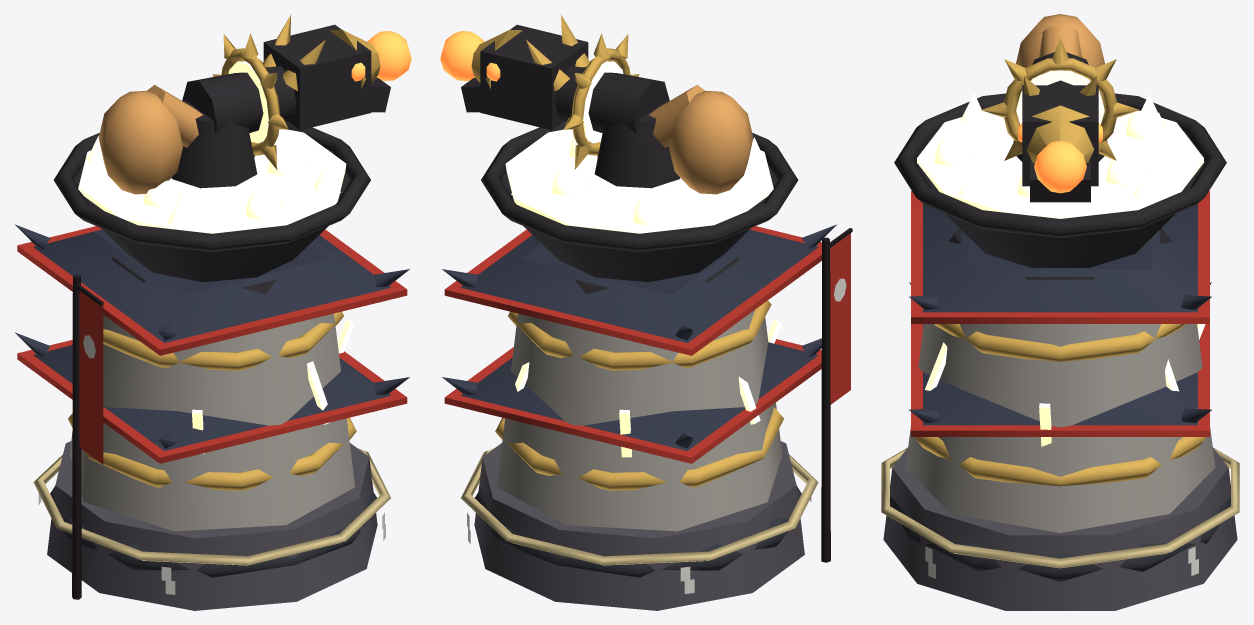
The model's file is tower_flame_sunfire.glb.
3 renders of one model, left to right at view 1: azimuth 30°, elevation 25°; view 2: azimuth 150°, elevation 25°; view 3: azimuth 270°, elevation 25°, orthographic. The views are drawn at different scales.
Visible parts, largest first — view 1: body, base, deco_eave_0_roof, coals, brazier_lip, dragon_head, gas_tank, deco_eave_1_roof, deco_eave_0_rim, deco_eave_1_rim, brazier_bowl, deco_shimenawa_rope (+18 smaller); view 2: body, base, deco_eave_0_roof, coals, brazier_lip, dragon_head, deco_eave_1_roof, gas_tank, deco_eave_0_rim, deco_eave_1_rim, brazier_bowl, deco_shimenawa_rope (+17 smaller); view 3: body, base, deco_eave_0_roof, coals, brazier_lip, deco_eave_1_roof, deco_eave_0_rim, brazier_bowl, deco_eave_1_rim, deco_shimenawa_rope, body_band_0.15, body_band_0.3 (+14 smaller).
Boxes of the visible parts, left/top/right/bottom form: body: left=69, top=313, right=354, bottom=531; base: left=47, top=441, right=377, bottom=610; deco_eave_0_roof: left=33, top=229, right=390, bottom=342; coals: left=78, top=129, right=346, bottom=233; brazier_lip: left=53, top=121, right=370, bottom=251; dragon_head: left=263, top=24, right=371, bottom=130; gas_tank: left=98, top=91, right=182, bottom=194; deco_eave_1_roof: left=33, top=345, right=390, bottom=450; deco_eave_0_rim: left=17, top=226, right=407, bottom=355; deco_eave_1_rim: left=17, top=340, right=407, bottom=463; brazier_bowl: left=74, top=148, right=350, bottom=282; deco_shimenawa_rope: left=33, top=448, right=390, bottom=565; body: left=497, top=310, right=782, bottom=531; base: left=474, top=441, right=804, bottom=610; deco_eave_0_roof: left=461, top=229, right=818, bottom=342; coals: left=505, top=129, right=773, bottom=233; brazier_lip: left=481, top=121, right=798, bottom=251; dragon_head: left=480, top=24, right=588, bottom=130; deco_eave_1_roof: left=461, top=342, right=818, bottom=450; gas_tank: left=669, top=91, right=753, bottom=194; deco_eave_0_rim: left=444, top=226, right=821, bottom=355; deco_eave_1_rim: left=444, top=339, right=821, bottom=463; brazier_bowl: left=501, top=148, right=777, bottom=282; deco_shimenawa_rope: left=461, top=448, right=818, bottom=565; body: left=905, top=324, right=1215, bottom=532; base: left=883, top=447, right=1237, bottom=610; deco_eave_0_roof: left=923, top=203, right=1197, bottom=312; coals: left=917, top=110, right=1203, bottom=218; brazier_lip: left=894, top=93, right=1226, bottom=238; deco_eave_1_roof: left=923, top=324, right=1197, bottom=425; deco_eave_0_rim: left=911, top=191, right=1209, bottom=323; brazier_bowl: left=915, top=131, right=1205, bottom=267; deco_eave_1_rim: left=911, top=324, right=1209, bottom=436; deco_shimenawa_rope: left=881, top=448, right=1239, bottom=568; body_band_0.15: left=915, top=437, right=1205, bottom=486; body_band_0.3: left=934, top=324, right=1186, bottom=361.
Bounding box in the file's own units: 0.4948 × 0.65 × 0.4052.
